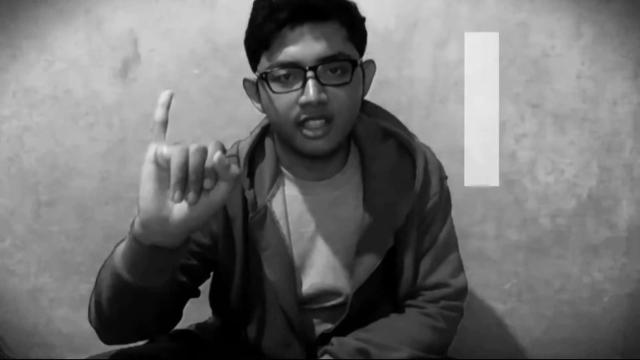I: (138, 88, 240, 240)
